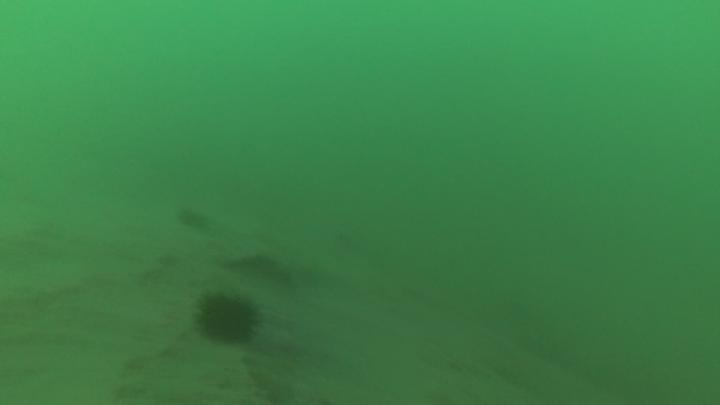echinus: (192, 287, 264, 349), (175, 204, 211, 234)
